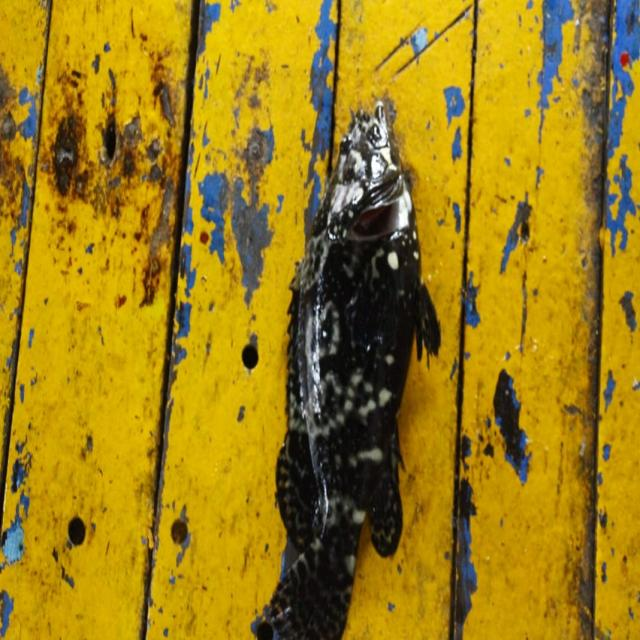ikan: (243, 76, 451, 640)
